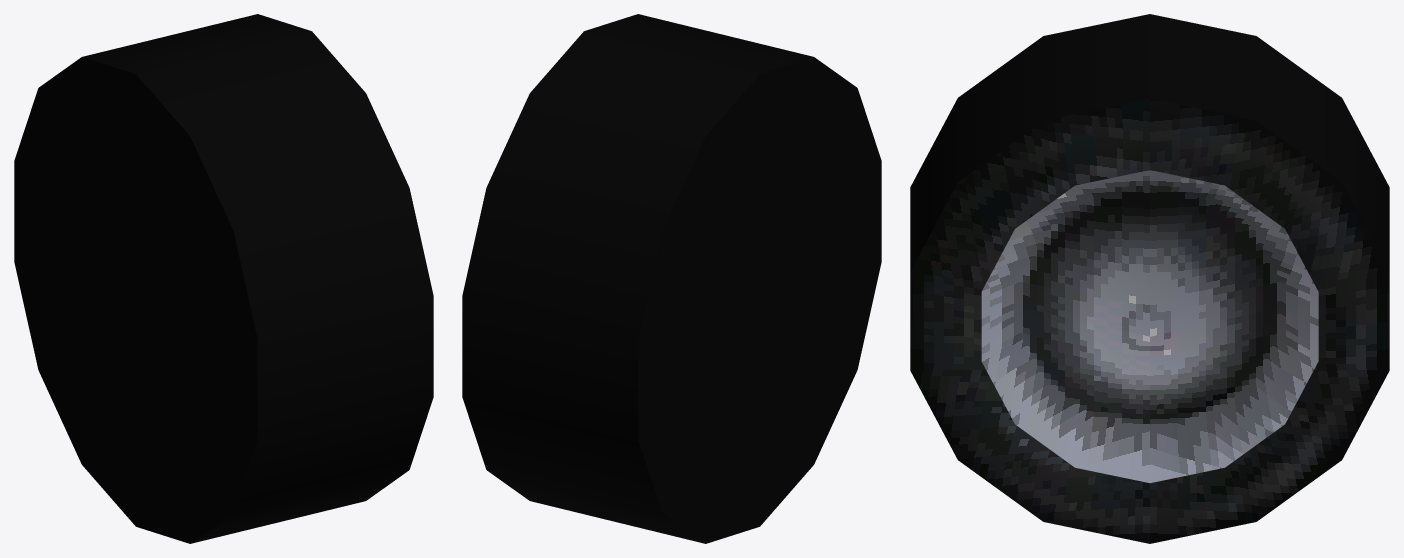
The model's file is DefaultWheel_bloodrb.glb.
The picture shows the model from 3 angles, left to right: view 1: azimuth 30°, elevation 25°; view 2: azimuth 150°, elevation 25°; view 3: azimuth 270°, elevation 25°; orthographic projection.
Visible parts, largest first — view 1: wheel; view 2: wheel; view 3: wheel.
Part boxes in pixels (x1,y1,x2,y2): wheel: [14, 14, 433, 543]; wheel: [462, 14, 881, 543]; wheel: [910, 14, 1389, 543].
Size of the model in its own units: 0.3369 by 0.6995 by 0.6819.
2 materials, 1 textured.
